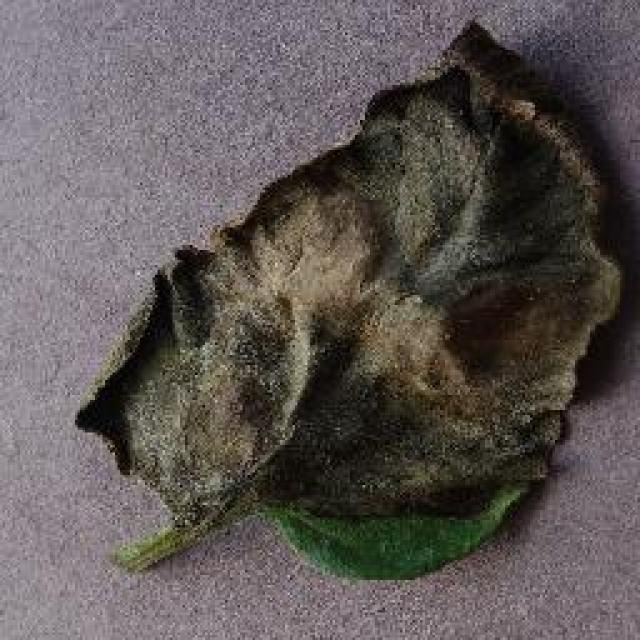Tomato late blight leaf: (74, 25, 621, 570)
